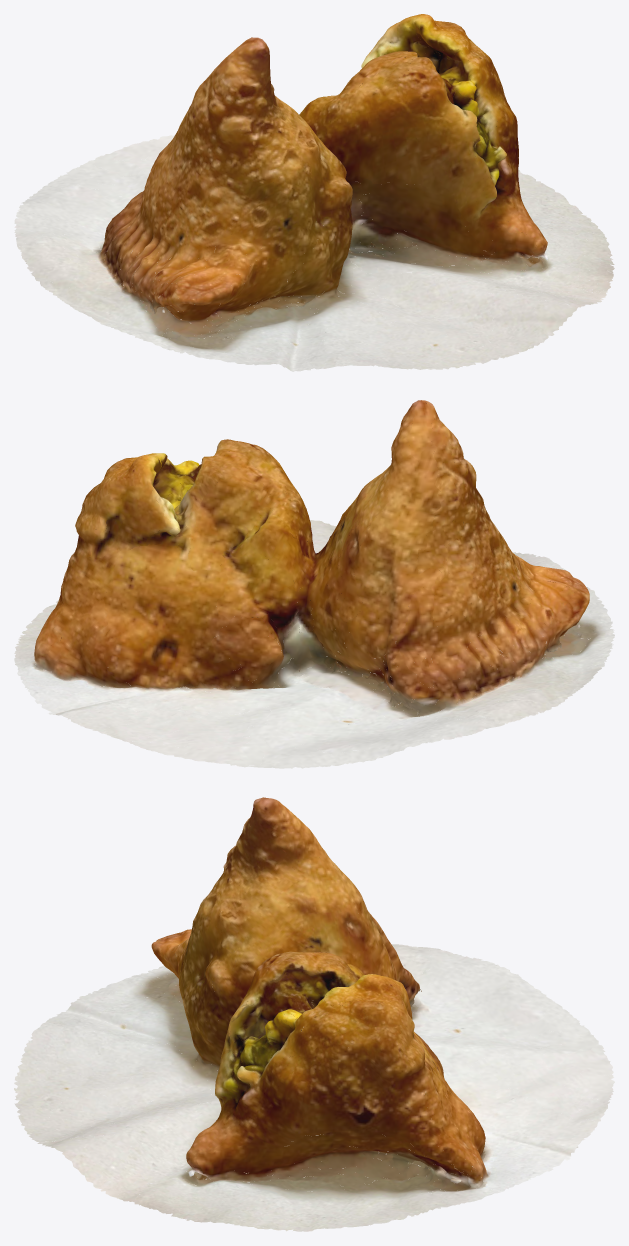
The model's file is samosa.glb.
3 renders of one model, top to bottom at view 1: azimuth 30°, elevation 25°; view 2: azimuth 150°, elevation 25°; view 3: azimuth 270°, elevation 25°, orthographic.
Parts seen in each view (by area): view 1: Object_4; view 2: Object_4; view 3: Object_4.
Part boxes in pixels (box(x1,y1,x2,y2)): Object_4: box(14, 14, 614, 371); Object_4: box(14, 400, 614, 768); Object_4: box(14, 797, 614, 1231).
Bounding box in the file's own units: 0.2192 × 0.1085 × 0.22.
1 material, 1 textured.
